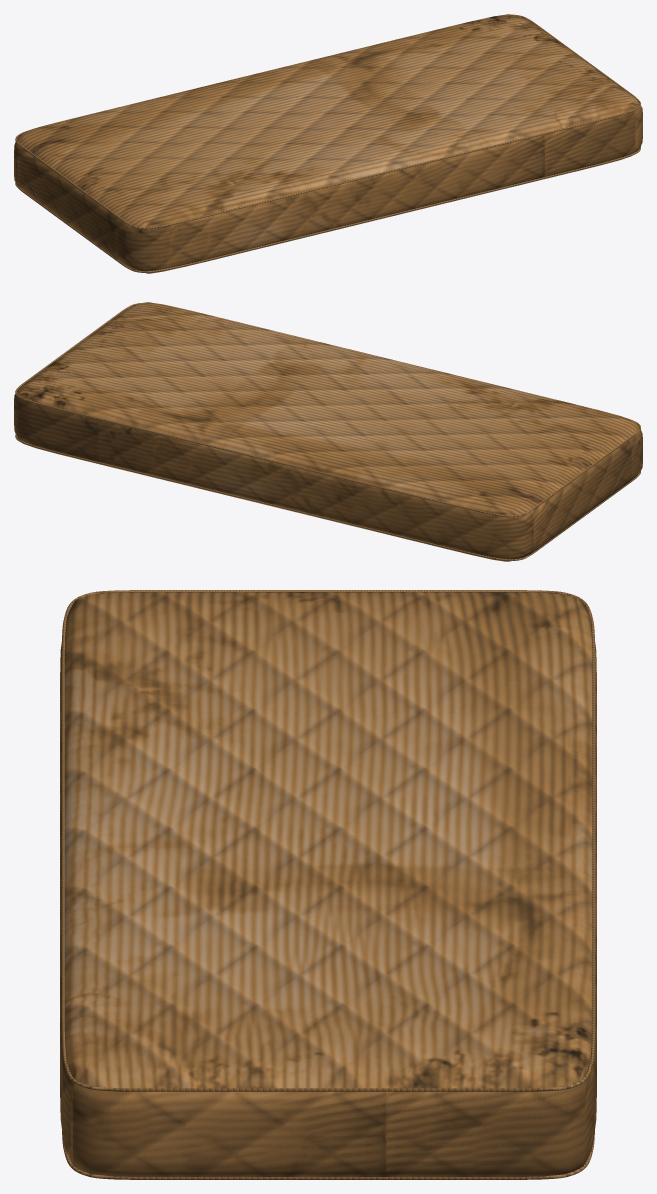
Rendered from mattress.fbx.
3 renders of one model, top to bottom at view 1: azimuth 30°, elevation 25°; view 2: azimuth 150°, elevation 25°; view 3: azimuth 270°, elevation 25°, orthographic. The views are drawn at different scales.
Visible parts, largest first — view 1: mattress; view 2: mattress; view 3: mattress.
Part boxes in pixels (x1,y1,x2,y2): mattress: [14, 14, 642, 273]; mattress: [14, 302, 642, 561]; mattress: [60, 590, 596, 1179].
Size of the model in its own units: 2000 by 210 by 900.
